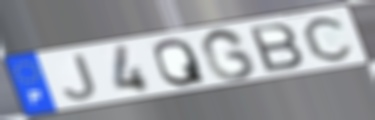4: (110, 42, 151, 96)
B: (245, 21, 307, 75)
C: (301, 15, 358, 63)
G: (198, 26, 259, 82)
J: (61, 52, 99, 102)
Q: (152, 36, 209, 88)
